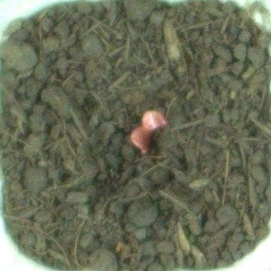chilli seed: (129, 124, 157, 156), (140, 108, 171, 132)
